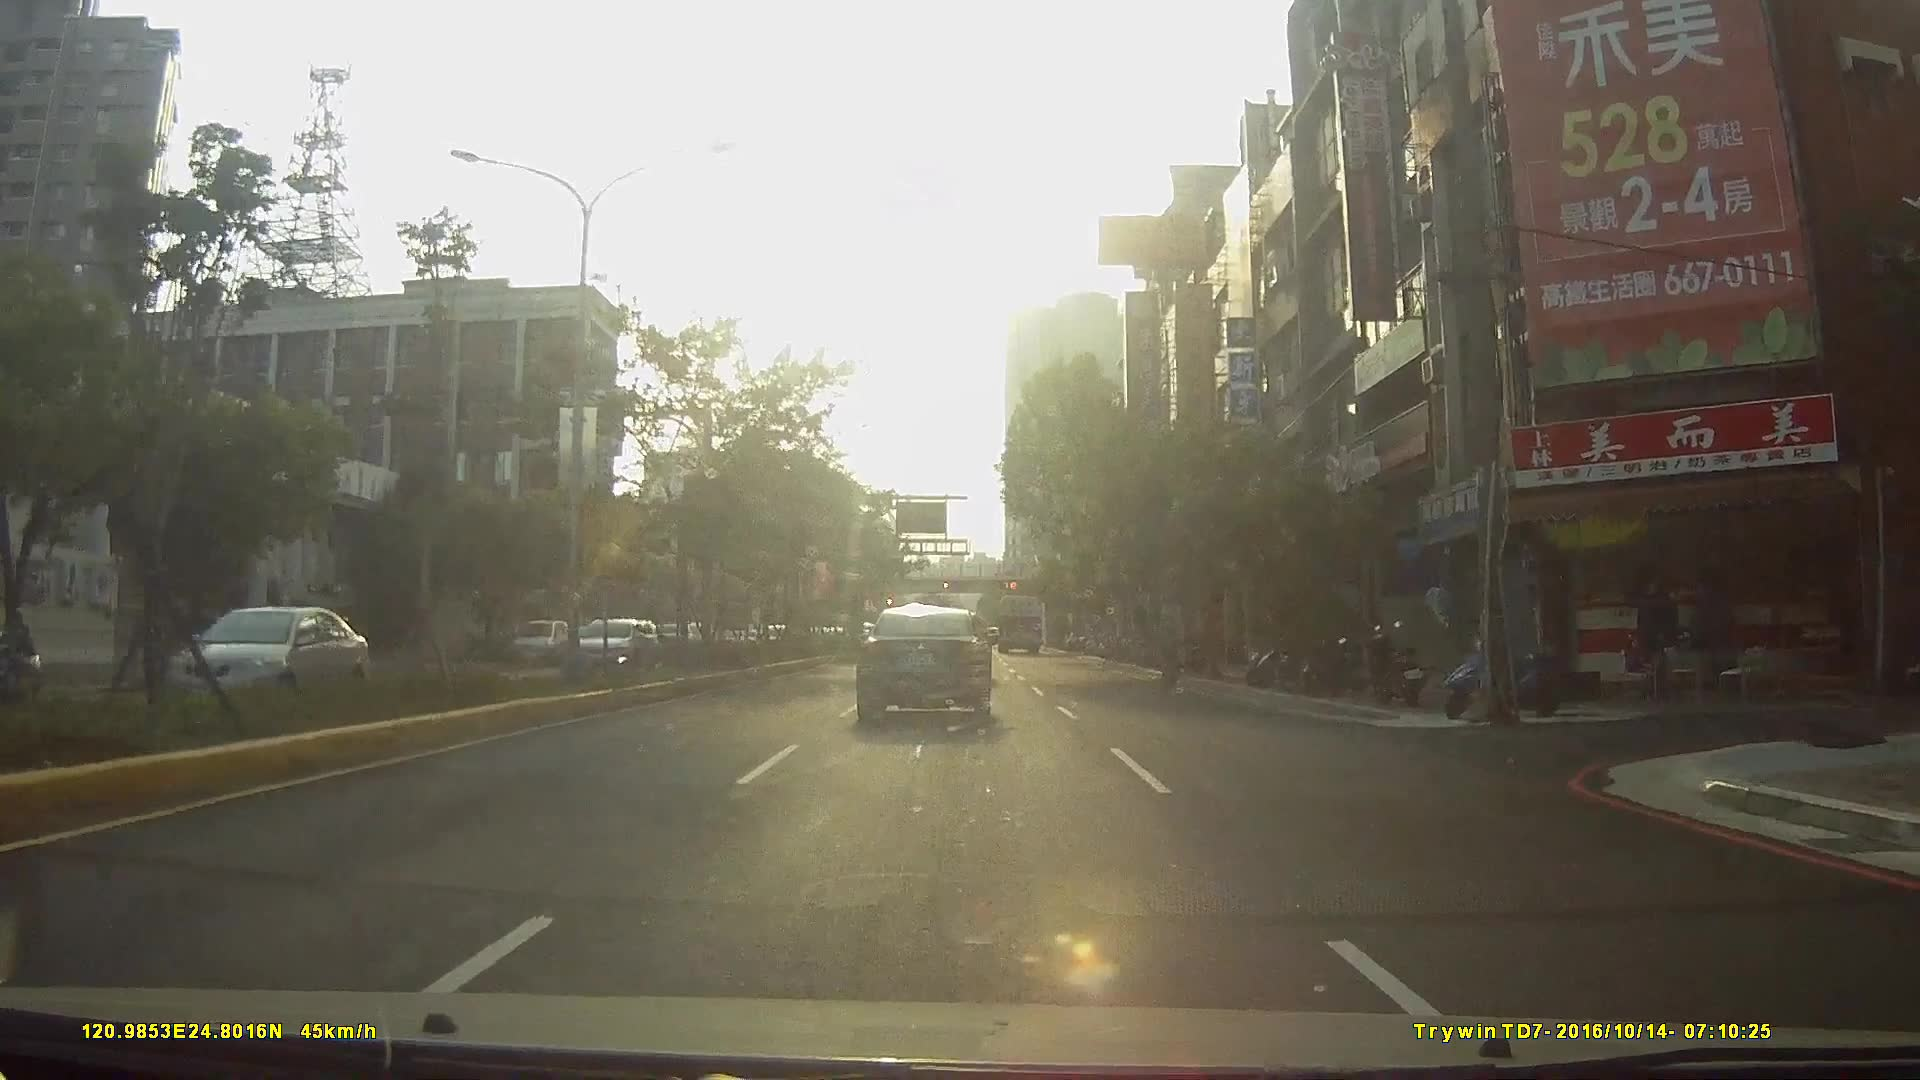pedestrian: (1155, 610, 1194, 701)
rider: (1, 614, 40, 711)
vehicle: (139, 601, 389, 735), (853, 602, 995, 725), (561, 615, 661, 681), (992, 592, 1043, 655), (507, 618, 569, 665)
